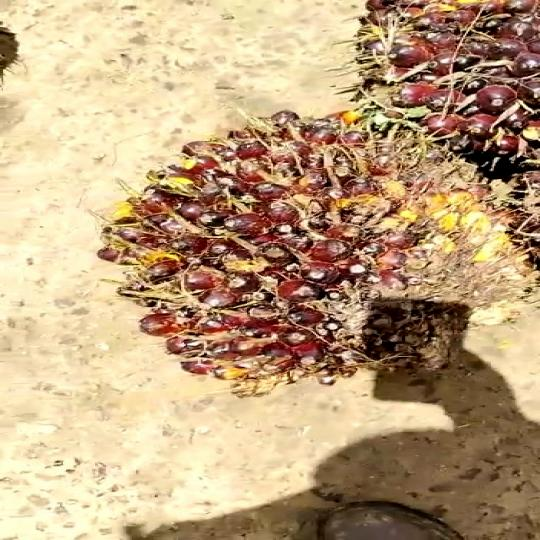kurang masak: (102, 112, 540, 401), (335, 0, 540, 185)
